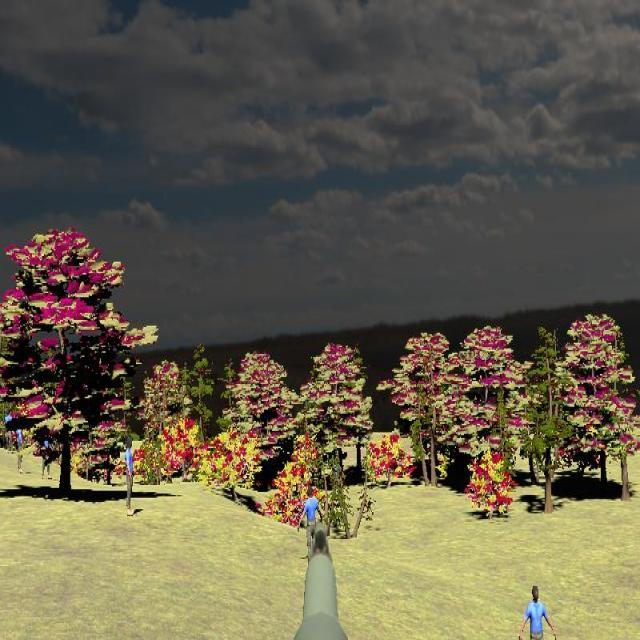Human: (298, 485, 324, 565), (298, 485, 324, 564), (519, 585, 555, 640), (298, 485, 323, 564), (125, 435, 135, 517)
